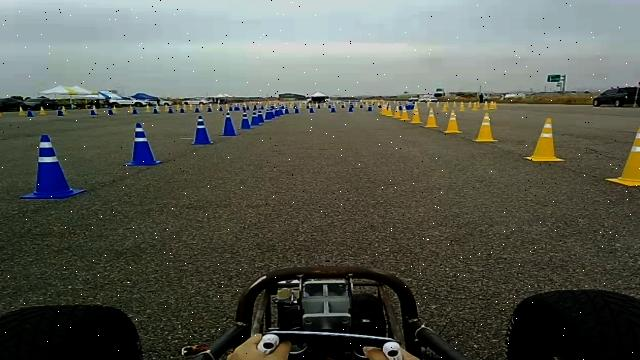blue cone: (18, 134, 86, 199), (122, 122, 163, 166), (190, 115, 213, 145), (219, 112, 238, 136), (238, 112, 252, 130)
yellow cone: (604, 125, 640, 186), (523, 118, 565, 162), (472, 112, 498, 142), (443, 109, 462, 134), (424, 108, 438, 128), (409, 107, 422, 124), (540, 118, 552, 135), (631, 125, 640, 146), (400, 109, 409, 120), (393, 106, 401, 118), (380, 108, 388, 115)
